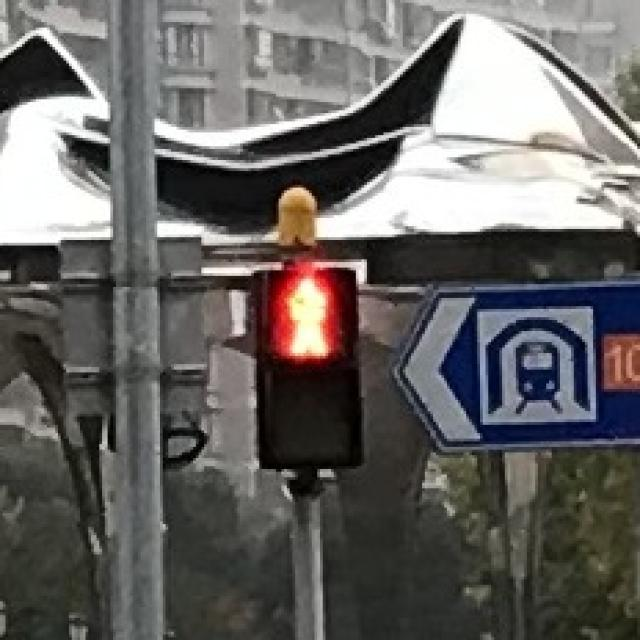red-crossing: (259, 269, 356, 357)
